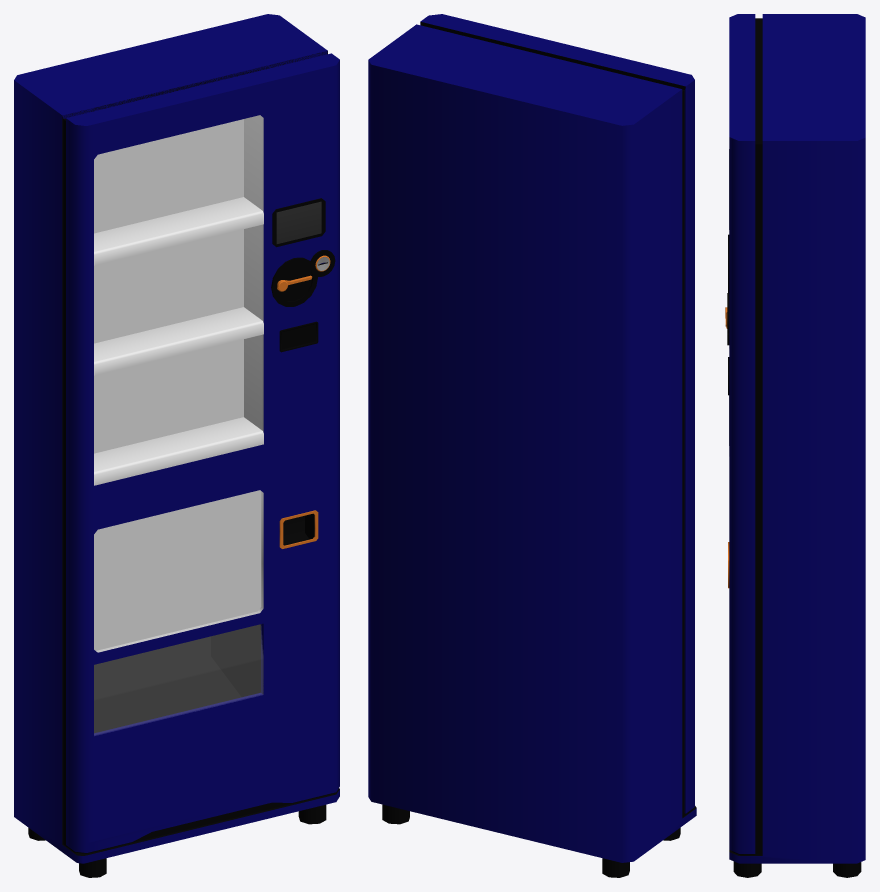
File: VendingMachine.fbx
3 renders of one model, left to right at view 1: azimuth 30°, elevation 25°; view 2: azimuth 150°, elevation 25°; view 3: azimuth 270°, elevation 25°, orthographic. The views are drawn at different scales.
Parts seen in each view (by area): view 1: Machine; view 2: Machine; view 3: Machine.
Boxes of the visible parts, <box> form: Machine: <box>14,14,339,877</box>; Machine: <box>368,14,696,877</box>; Machine: <box>725,14,865,877</box>.
Size of the model in its own units: 0.7 by 1.91 by 0.3272.
